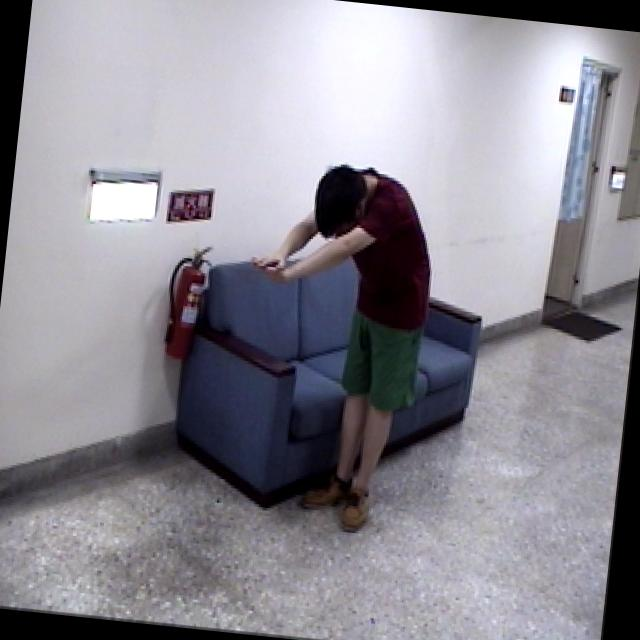bend: (222, 147, 453, 546)
